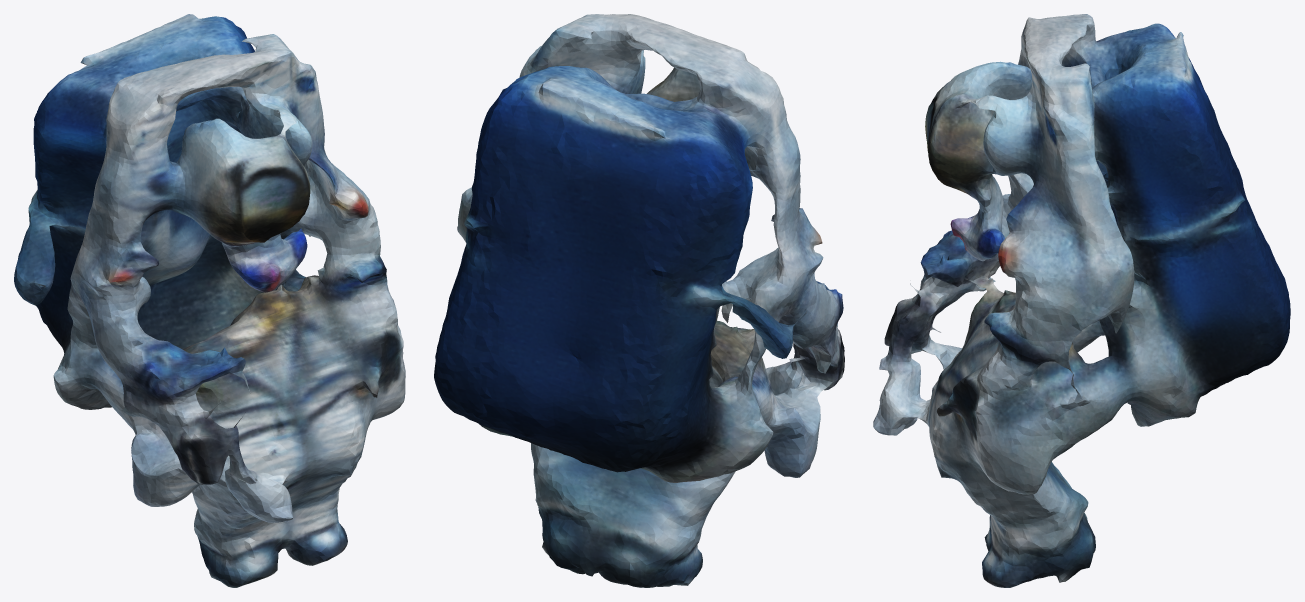
3 views of the same model, side by side, from view 1: azimuth 30°, elevation 25°; view 2: azimuth 150°, elevation 25°; view 3: azimuth 270°, elevation 25° (orthographic). The views are drawn at different scales.
Size of the model in its own units: 0.6965 by 0.9982 by 0.7344.
Materials: 1 (1 with a texture image).
